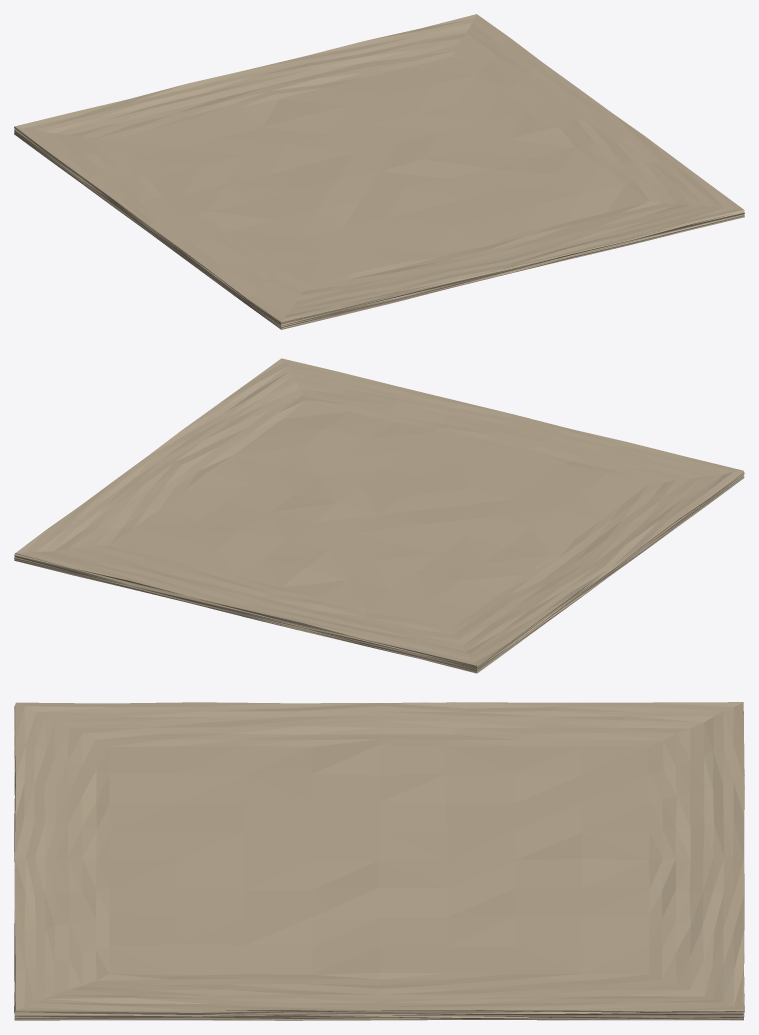
The model's file is SM_FloorInlay.fbx.
3 renders of one model, top to bottom at view 1: azimuth 30°, elevation 25°; view 2: azimuth 150°, elevation 25°; view 3: azimuth 270°, elevation 25°, orthographic. The views are drawn at different scales.
Parts seen in each view (by area): view 1: SM_FloorInlay; view 2: SM_FloorInlay; view 3: SM_FloorInlay.
Boxes of the visible parts, x1=… form: SM_FloorInlay: x1=14, y1=14, x2=744, y2=329; SM_FloorInlay: x1=14, y1=358, x2=744, y2=673; SM_FloorInlay: x1=14, y1=702, x2=744, y2=1020.
Size of the model in its own units: 4.01 by 0.0706 by 4.01.
